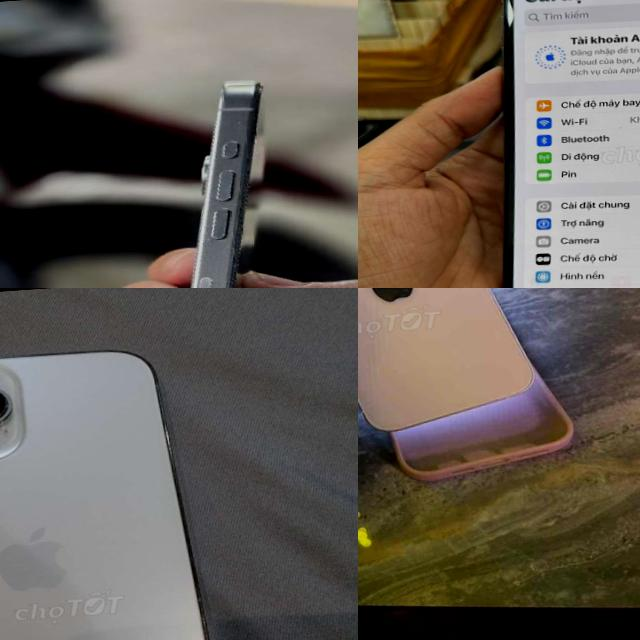gen_12_13: (0, 332, 243, 640), (358, 288, 540, 436)
gen_15: (131, 71, 290, 288)
gen_x_xs: (503, 0, 640, 288)
physical_damage: (358, 305, 433, 341), (358, 393, 417, 432), (428, 368, 480, 410), (472, 360, 528, 398), (407, 381, 454, 425), (368, 356, 417, 392), (359, 332, 413, 358), (443, 288, 503, 299), (358, 288, 377, 310)
